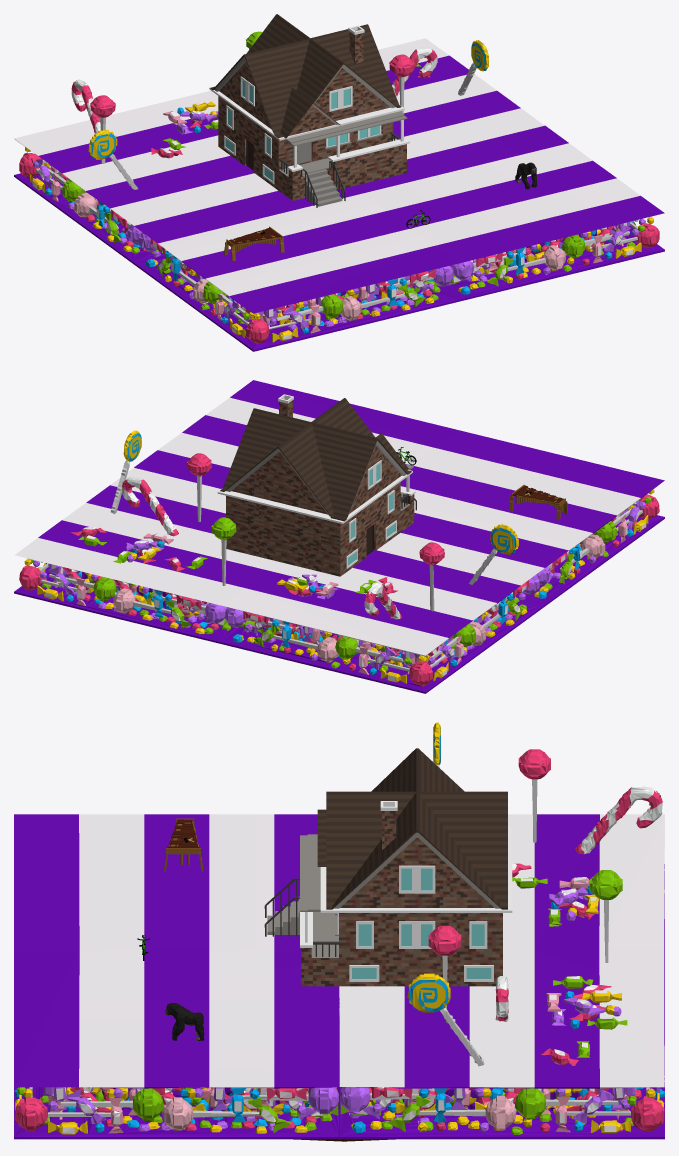
The picture shows the model from 3 angles, top to bottom: view 1: azimuth 30°, elevation 25°; view 2: azimuth 150°, elevation 25°; view 3: azimuth 270°, elevation 25°; orthographic projection. The views are drawn at different scales.
Parts seen in each view (by area): view 1: TERRAIN_CANDY, Cube.117, OBJRANDOM_MARIMBA; view 2: TERRAIN_CANDY, Cube.117, OBJRANDOM_MARIMBA; view 3: TERRAIN_CANDY, Cube.117, OBJRANDOM_MARIMBA, ANIMAL_GORILA.
Boxes of the visible parts, x1,y1,x2,y2 form: TERRAIN_CANDY: [14, 31, 664, 351]; Cube.117: [209, 14, 409, 207]; OBJRANDOM_MARIMBA: [224, 226, 284, 261]; TERRAIN_CANDY: [14, 380, 664, 693]; Cube.117: [217, 394, 416, 576]; OBJRANDOM_MARIMBA: [509, 484, 567, 520]; TERRAIN_CANDY: [14, 722, 664, 1139]; Cube.117: [264, 748, 512, 986]; OBJRANDOM_MARIMBA: [164, 818, 203, 871]; ANIMAL_GORILA: [165, 1003, 204, 1040].
Size of the model in its own units: 4059 by 1650 by 4000.
Materials: 29 (3 with a texture image).
